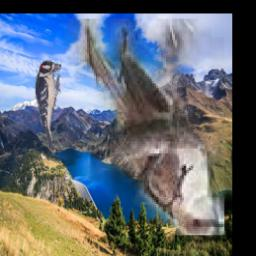Cuckoo: (62, 20, 224, 236)
Woodpecker: (34, 58, 61, 149)
